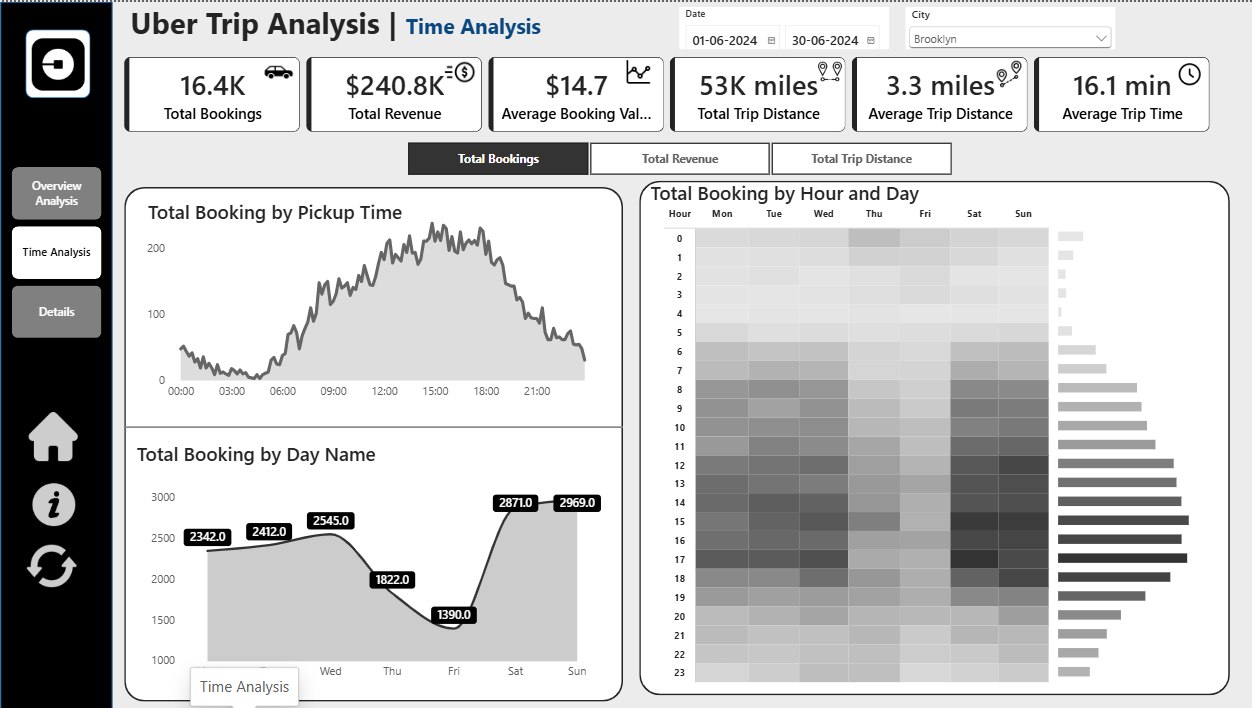

What the dashboard file says about the page in this screenshot:
{"tool":"powerbi","page":{"name":"Time Analysis","canvas":[1600,900],"ordinal":1},"visuals":[{"type":"shape","box":[10.3,0,142,900.5],"z":0},{"type":"textbox","box":[173.9,0,626.3,59.6],"z":1000},{"type":"cardVisual","fields":{"Data":["Trip Details.Total Bookings","Trip Details.Total Booking Value","Trip Details.Avg Booking Value","Trip Details.Total Trip Distance","Trip Details.Average Trip Distance","Trip Details.Average Trip Time"]},"box":[165.9,69.1,1380,95.4],"z":2000},{"type":"image","box":[571.3,70.1,42.3,38],"z":3000},{"type":"image","box":[1047.3,69.1,30,37],"z":4000},{"type":"image","box":[1275.3,73.1,33.8,36.9],"z":5000},{"type":"image","box":[1502.9,78.3,32,28],"z":6000},{"type":"image","box":[802.3,72.1,36,34],"z":7000},{"type":"image","box":[344.3,70.1,37,38.6],"z":8000},{"type":"shape","box":[166.7,235,633.3,653.3],"z":9000},{"type":"slicer","fields":{"Values":["Calendar Table.Date"]},"box":[871.7,6.7,266.7,53.3],"z":10000},{"type":"slicer","fields":{"Values":["Location Table.City"]},"box":[1158.3,6.7,266.7,53.3],"z":11000},{"type":"slicer","fields":{"Values":["Dynamic Measure.Dynamic Measure"]},"box":[506.7,176.7,730,45],"z":12000},{"type":"areaChart","fields":{"Y":["Trip Details.Total Bookings"],"Category":["Trip Details.Pickup Hour (H M S) (bins)"]},"box":[180,248.3,605,276.7],"z":13000},{"type":"cardVisual","fields":{"Data":["Trip Details.Title For by Pickup Time"]},"box":[180.3,234.4,411.5,60.7],"z":14000},{"type":"areaChart","fields":{"Y":["Trip Details.Total Bookings"],"Category":["Calendar Table.day"]},"box":[183.3,603.3,605,276.7],"z":15000},{"type":"cardVisual","fields":{"Data":["Trip Details.Title for Day Name"]},"box":[166.7,543.3,378.3,60],"z":16000},{"type":"shape","box":[166.7,536.7,633.3,6.7],"z":17000},{"type":"shape","box":[820,226.7,750,653.3],"z":18000},{"type":"pivotTable","fields":{"Values":["Trip Details.Total Bookings"],"Rows":["Trip Details.PickUp Hours"],"Columns":["Calendar Table.day"]},"box":[836.7,241.7,530,641.7],"z":19000},{"type":"barChart","fields":{"Y":["Trip Details.Total Bookings"],"Category":["Trip Details.PickUp Hours"]},"box":[1336.1,265.6,222,635],"z":20000},{"type":"cardVisual","fields":{"Data":["Trip Details.Heat Map Title"]},"box":[819.7,211.5,444.3,60.7],"z":21000},{"type":"shape","box":[41.1,34.2,82.4,87.1],"z":22000},{"type":"image","box":[48.8,34.2,66.9,88.6],"z":23000},{"type":"pageNavigator","box":[23.4,209.4,114.1,217.2],"z":24000},{"type":"image","box":[43.5,520.9,66.9,62.2],"z":24001},{"type":"image","box":[38.1,611.1,77.7,54.4],"z":24002},{"type":"image","box":[33.3,684.1,82.4,63.8],"z":24003}]}

Visuals, with their boxes on the page's 1600x900 design canvas (x1, y1, x2, y2). These are canvas units, not pixel positions in the 1252x708 screenshot, which may show the page scaled, cropped or inside an application window:
shape: 10, 0, 152, 900
textbox: 174, 0, 800, 60
cardVisual - Trip Details.Total Bookings x Trip Details.Total Booking Value: 166, 69, 1546, 164
image: 571, 70, 614, 108
image: 1047, 69, 1077, 106
image: 1275, 73, 1309, 110
image: 1503, 78, 1535, 106
image: 802, 72, 838, 106
image: 344, 70, 381, 109
shape: 167, 235, 800, 888
slicer - Calendar Table.Date: 872, 7, 1138, 60
slicer - Location Table.City: 1158, 7, 1425, 60
slicer - Dynamic Measure.Dynamic Measure: 507, 177, 1237, 222
areaChart - Trip Details.Total Bookings x Trip Details.Pickup Hour (H M S) (bins): 180, 248, 785, 525
cardVisual - Trip Details.Title For by Pickup Time: 180, 234, 592, 295
areaChart - Trip Details.Total Bookings x Calendar Table.day: 183, 603, 788, 880
cardVisual - Trip Details.Title for Day Name: 167, 543, 545, 603
shape: 167, 537, 800, 543
shape: 820, 227, 1570, 880
pivotTable - Trip Details.Total Bookings x Trip Details.PickUp Hours: 837, 242, 1367, 883
barChart - Trip Details.Total Bookings x Trip Details.PickUp Hours: 1336, 266, 1558, 901
cardVisual - Trip Details.Heat Map Title: 820, 212, 1264, 272
shape: 41, 34, 124, 121
image: 49, 34, 116, 123
pageNavigator: 23, 209, 138, 427
image: 44, 521, 110, 583
image: 38, 611, 116, 666
image: 33, 684, 116, 748
